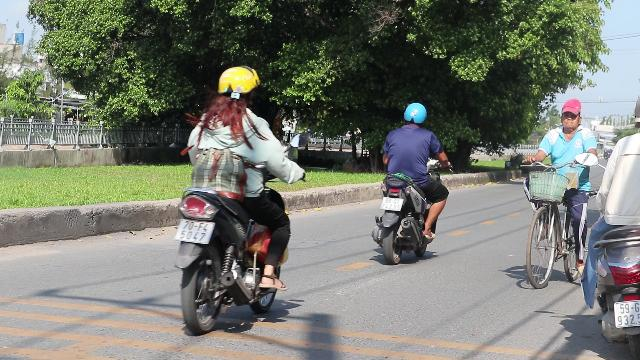helmet: (216, 66, 260, 106), (402, 102, 428, 126)
licenseplate: (173, 220, 214, 244), (382, 197, 402, 210)
motorcyclist: (170, 65, 304, 333), (370, 100, 450, 264)
